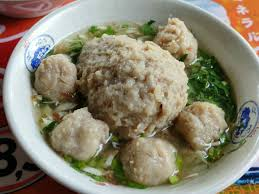bakso: (23, 20, 239, 180)
